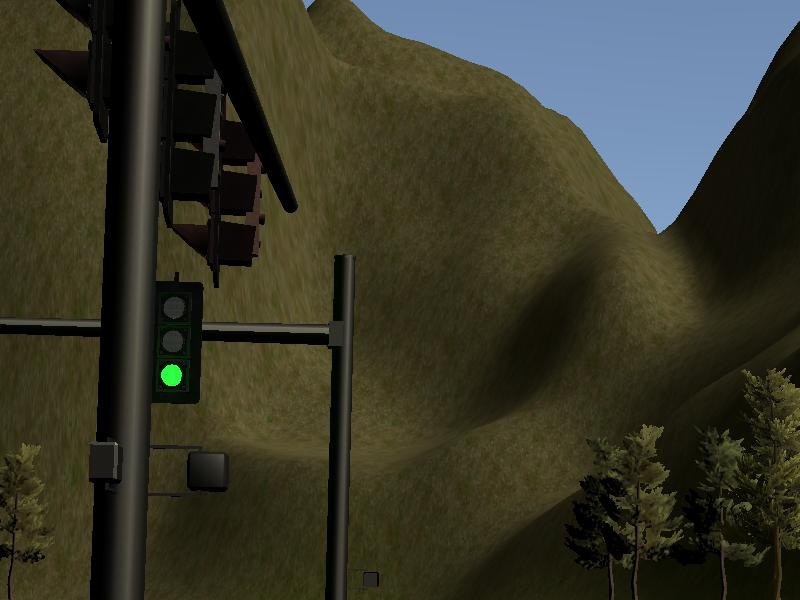Green: (150, 285, 202, 403)
